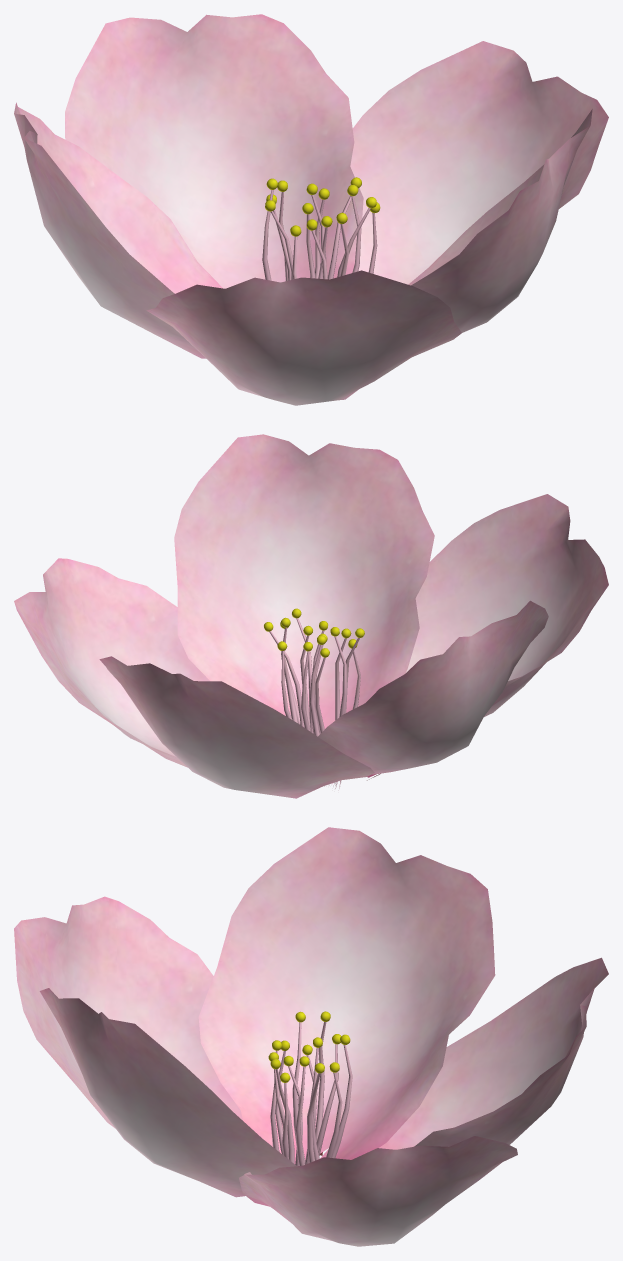
The picture shows the model from 3 angles, top to bottom: view 1: azimuth 30°, elevation 25°; view 2: azimuth 150°, elevation 25°; view 3: azimuth 270°, elevation 25°; orthographic projection. The views are drawn at different scales.
Visible parts, largest first — view 1: b0723478; view 2: b0723478; view 3: b0723478.
Boxes of the visible parts, x1,y1,x2,y2 form: b0723478: (14,14,608,405); b0723478: (14,434,608,798); b0723478: (14,827,608,1246).
Size of the model in its own units: 0.1499 by 0.0776 by 0.1508.
1 material, 1 textured.
